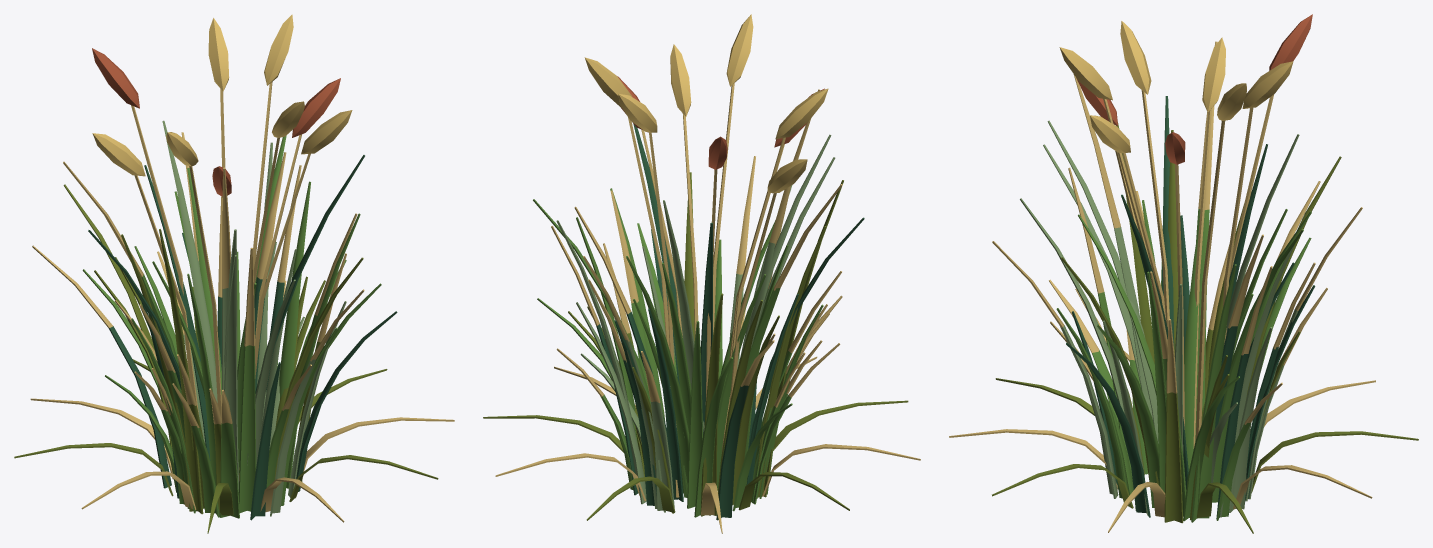
Rendered from deco_grass_tall.fbx.
3 renders of one model, left to right at view 1: azimuth 30°, elevation 25°; view 2: azimuth 150°, elevation 25°; view 3: azimuth 270°, elevation 25°, orthographic. The views are drawn at different scales.
Visible parts, largest first — view 1: Grass_Tall_Blades, Grass_Tall_SeedHeads; view 2: Grass_Tall_Blades, Grass_Tall_SeedHeads; view 3: Grass_Tall_Blades, Grass_Tall_SeedHeads.
Part boxes in pixels (left/top/right/bottom): Grass_Tall_Blades: left=14, top=120, right=454, bottom=533; Grass_Tall_SeedHeads: left=92, top=14, right=352, bottom=480; Grass_Tall_Blades: left=483, top=89, right=920, bottom=533; Grass_Tall_SeedHeads: left=584, top=14, right=828, bottom=497; Grass_Tall_Blades: left=949, top=41, right=1418, bottom=533; Grass_Tall_SeedHeads: left=1059, top=14, right=1312, bottom=448.
Size of the model in its own units: 132 by 147 by 138.
